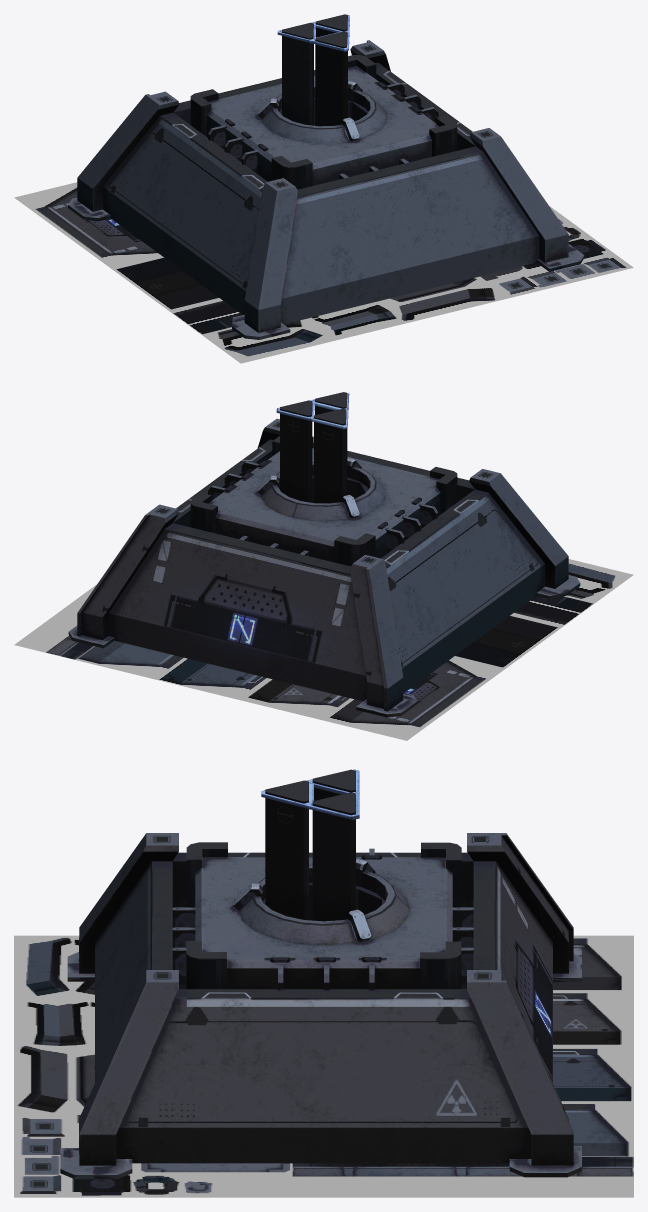
File: supply.glb
3 renders of one model, top to bottom at view 1: azimuth 30°, elevation 25°; view 2: azimuth 150°, elevation 25°; view 3: azimuth 270°, elevation 25°, orthographic. The views are drawn at different scales.
Parts seen in each view (by area): view 1: supply_base, S_LM_supplyshadow, supply_battery; view 2: supply_base, S_LM_supplyshadow, supply_battery; view 3: supply_base, S_LM_supplyshadow, supply_battery.
Part boxes in pixels (x1,y1,x2,y2): supply_base: (68, 40, 584, 339); S_LM_supplyshadow: (14, 182, 633, 363); supply_battery: (277, 14, 349, 126); supply_base: (68, 418, 580, 717); S_LM_supplyshadow: (14, 559, 633, 740); supply_battery: (276, 392, 349, 503); supply_base: (60, 833, 581, 1179); S_LM_supplyshadow: (14, 935, 633, 1197); supply_battery: (261, 769, 359, 921).
Size of the model in its own units: 0.0105 by 0.00535 by 0.0105.
Materials: 1 (1 with a texture image).
